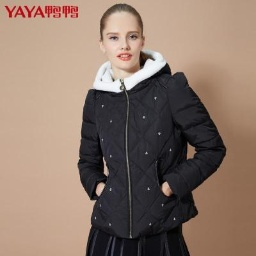face: (94, 1, 153, 73)
